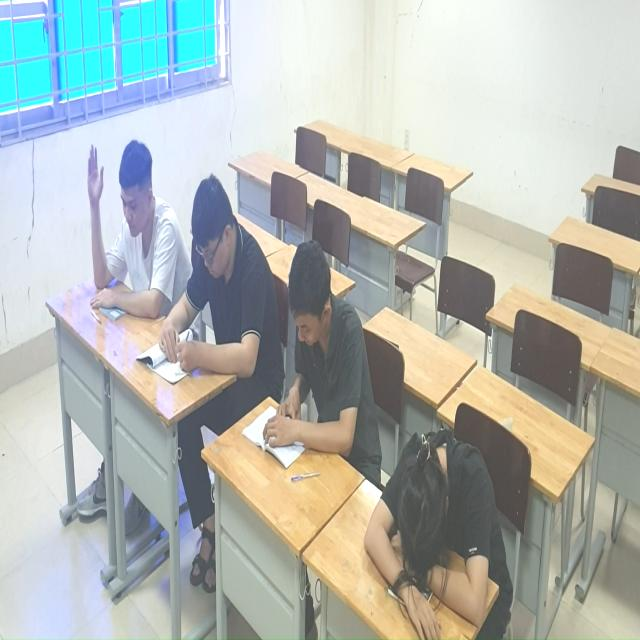raise_hand: (82, 132, 164, 333)
read: (244, 234, 371, 484), (158, 178, 270, 425)
sleep: (348, 439, 519, 640)
